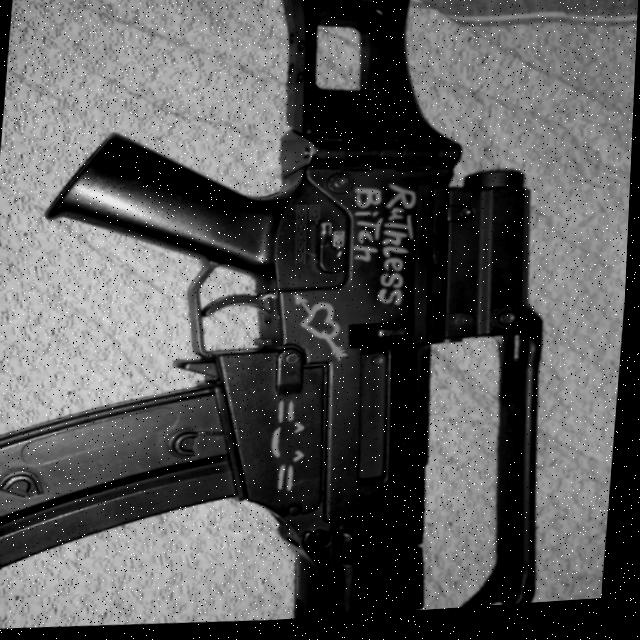firearm: (0, 0, 587, 640)
